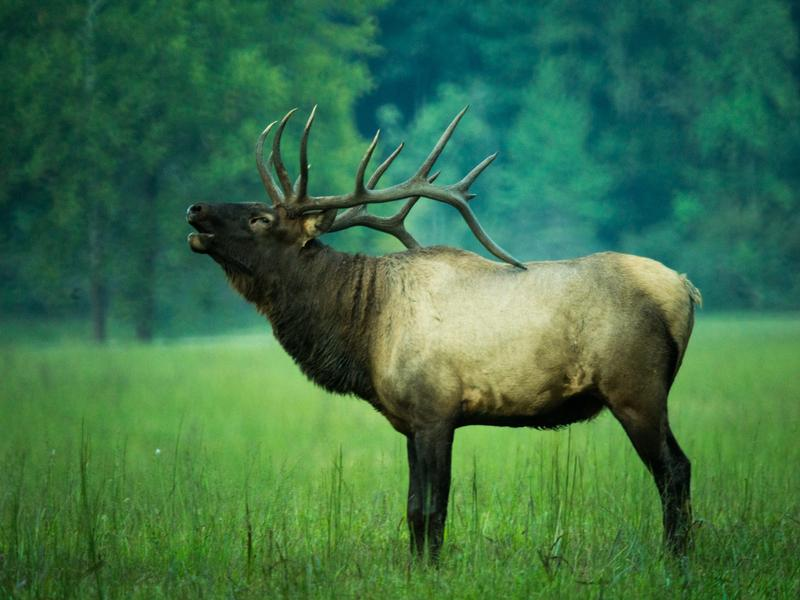elk: (184, 123, 704, 572)
